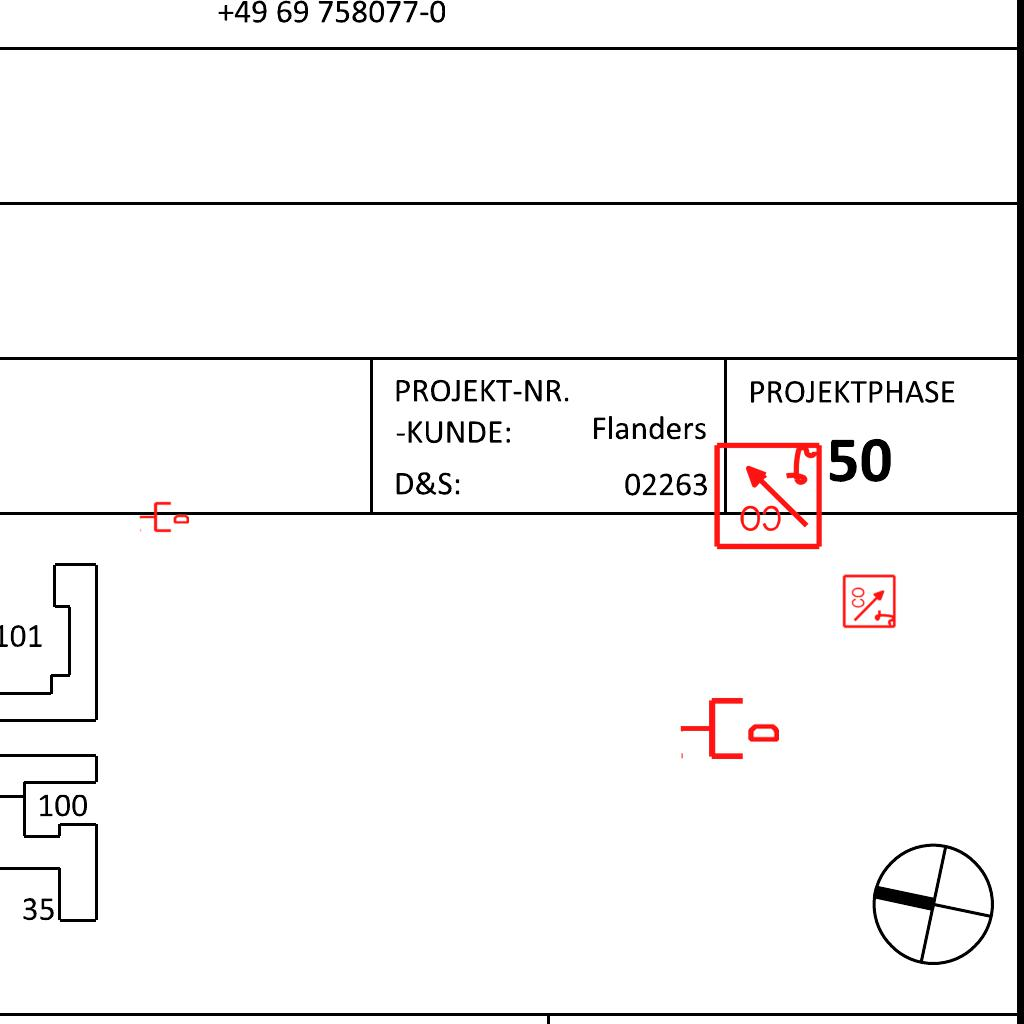Datenanschluss_einfach: (679, 694, 779, 763), (139, 500, 189, 534)
ROA_Rauchmelder_optisch_mit_Signalgeber_(Sockelsirene): (711, 438, 824, 551), (842, 573, 898, 629)
